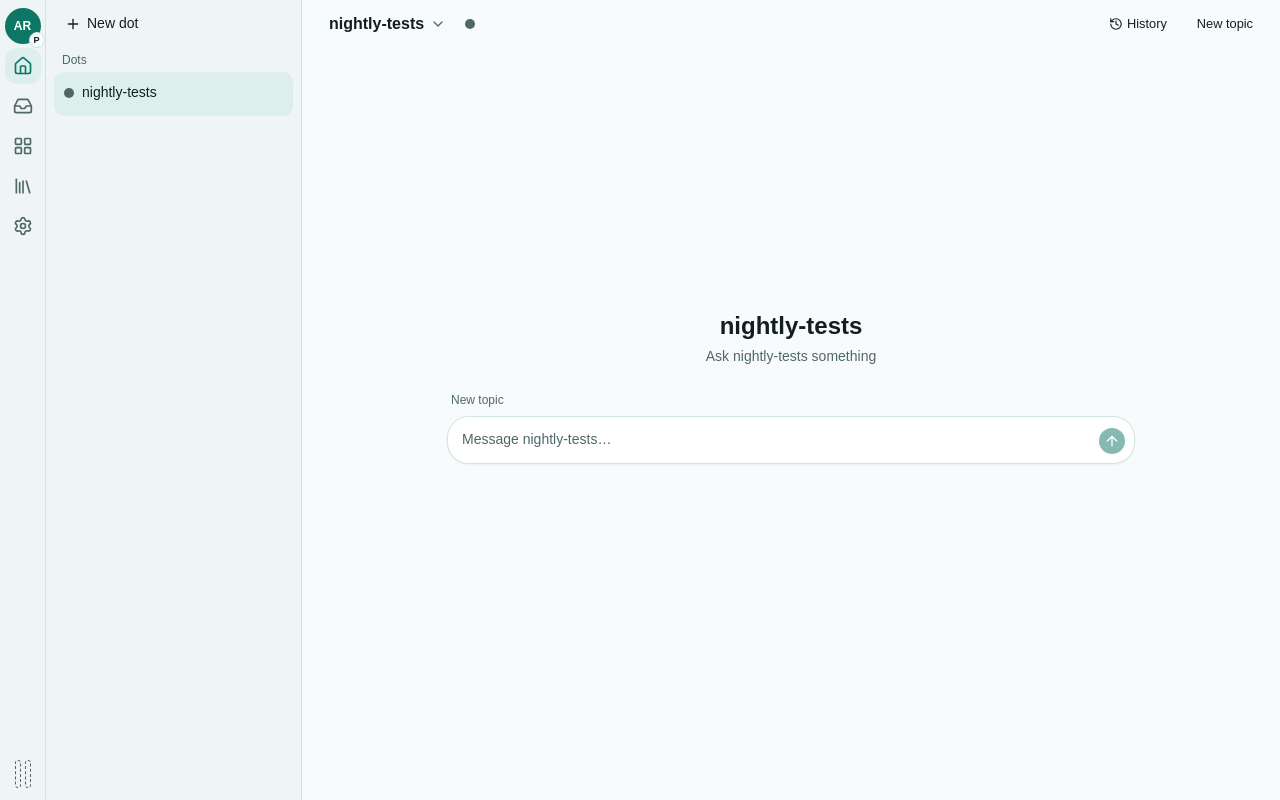
Test: the dot's menu › shows why a run could not start
Click the button "nightly-tests". click: (388, 24)
box: top-left (318, 8), bottom-right (457, 40)
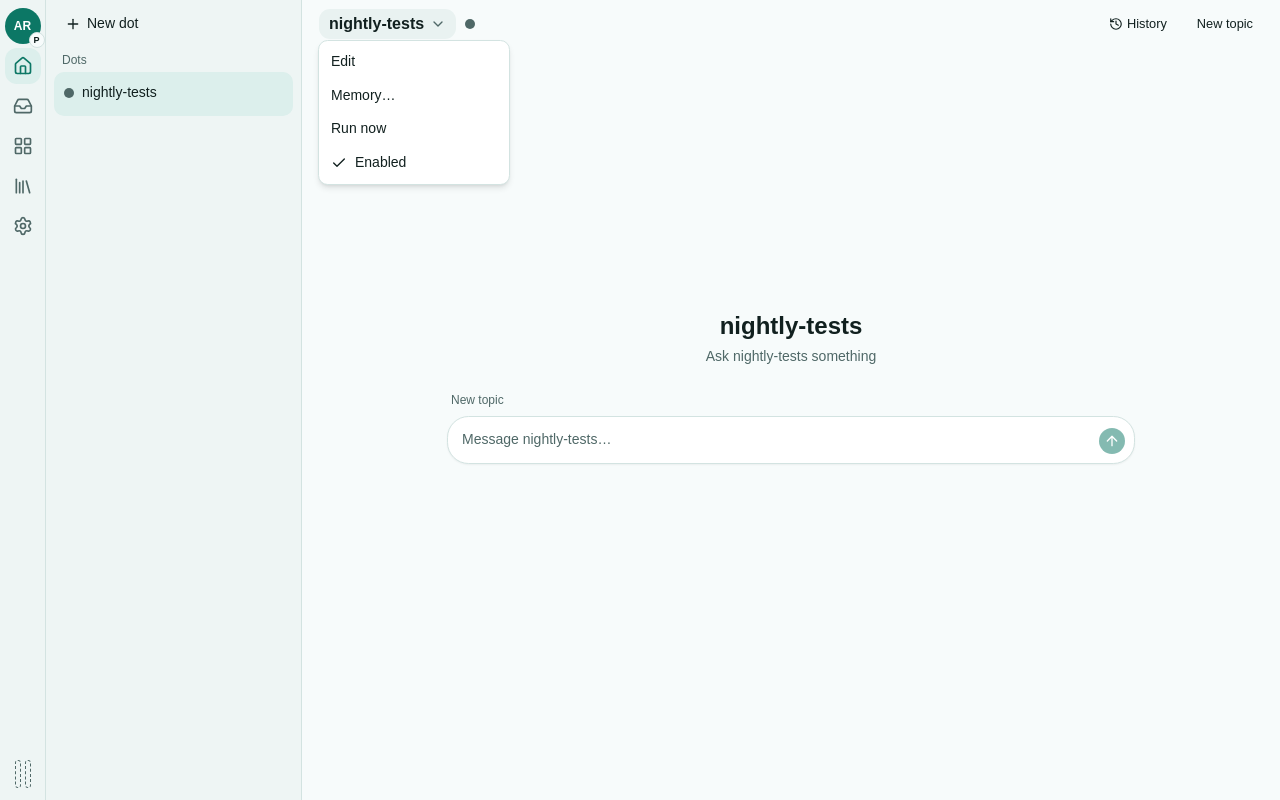
Click the menu item "Run now". click: (359, 128)
box: top-left (331, 120), bottom-right (386, 136)
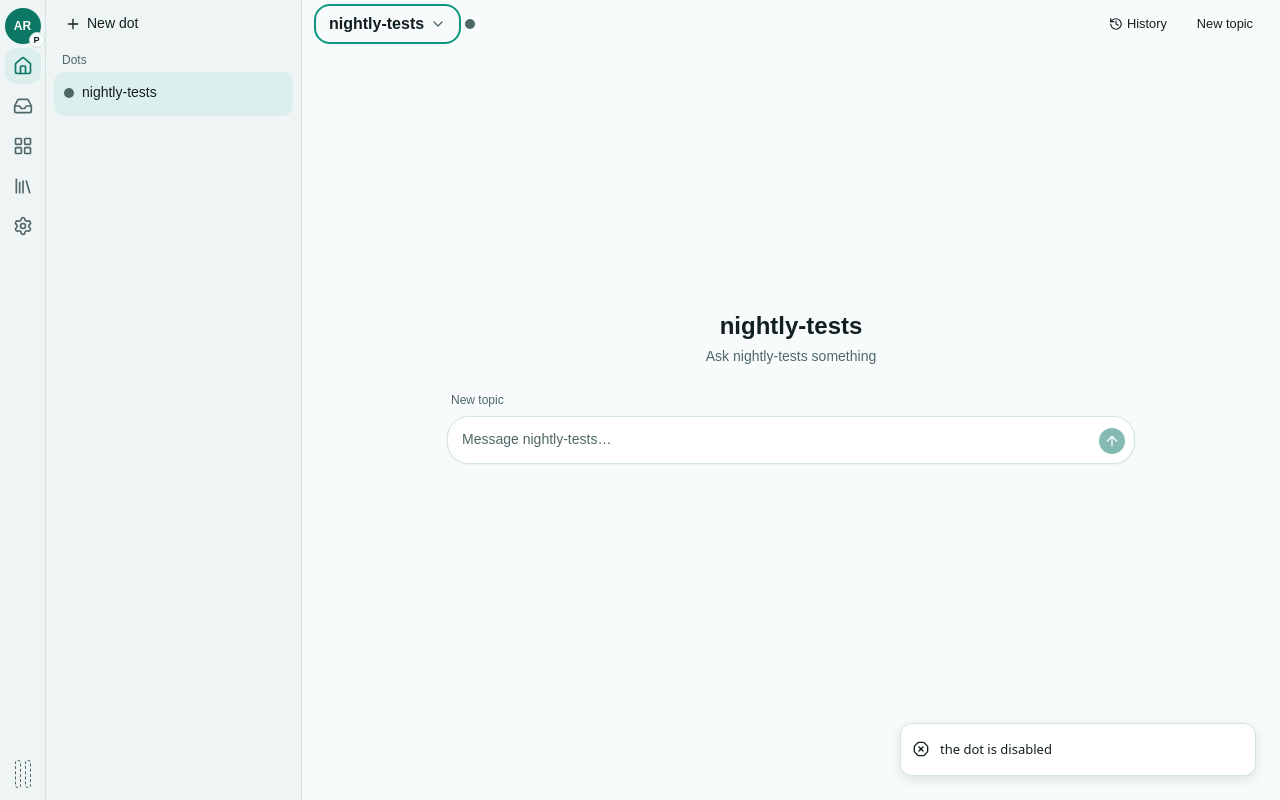
Now the text "the dot is disabled" is shown, box top-left (940, 740), bottom-right (1052, 759)
